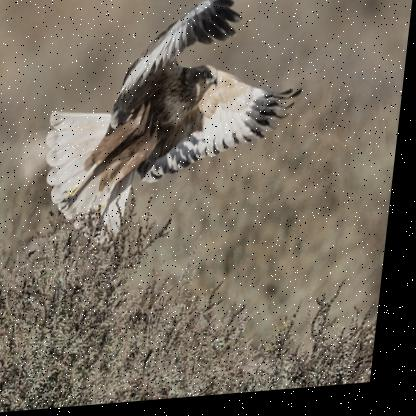Burung: (39, 0, 317, 260)
